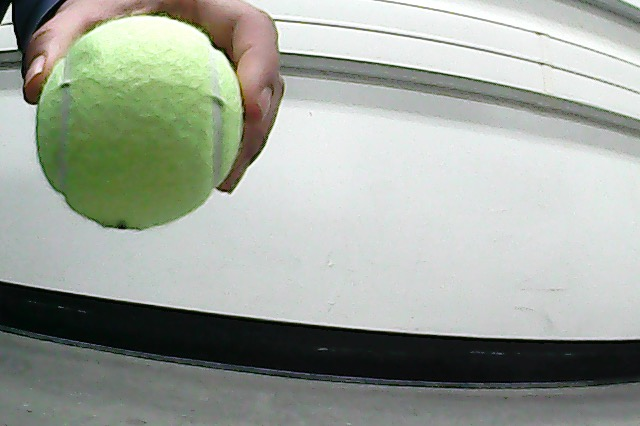ball: (37, 16, 243, 231)
